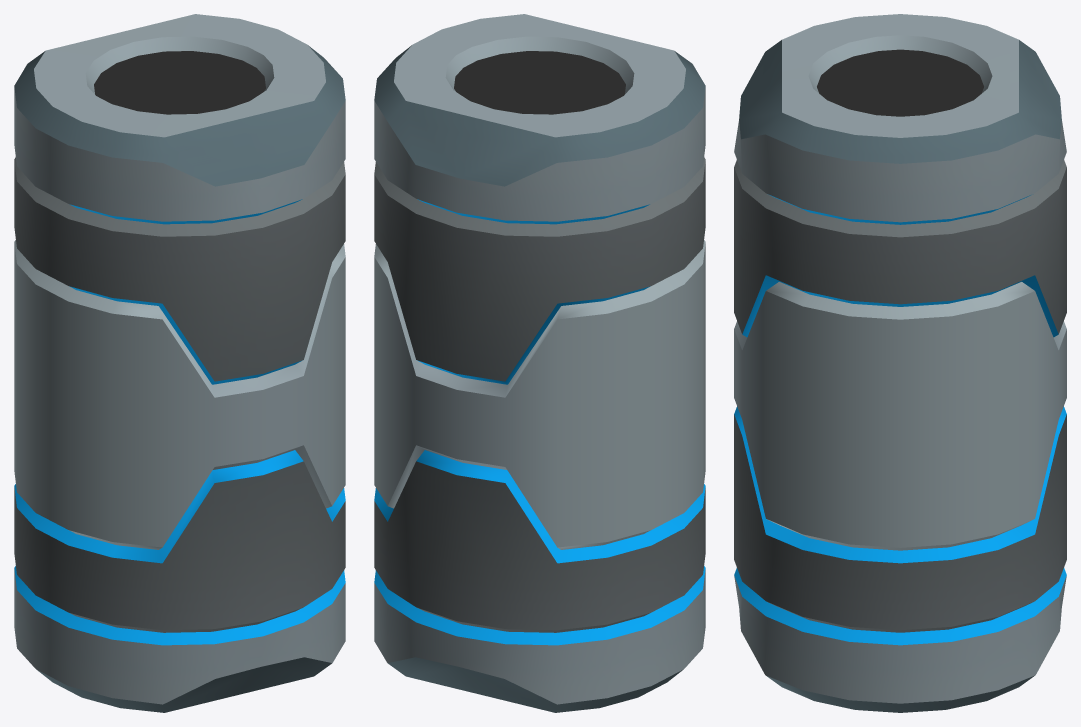
Rendered from Battery_004.fbx.
3 views of the same model, side by side, from view 1: azimuth 30°, elevation 25°; view 2: azimuth 150°, elevation 25°; view 3: azimuth 270°, elevation 25° (orthographic).
Parts seen in each view (by area): view 1: Battery_004; view 2: Battery_004; view 3: Battery_004.
Part boxes in pixels (x1,y1,x2,y2): Battery_004: (14, 14, 345, 712); Battery_004: (374, 14, 705, 712); Battery_004: (734, 14, 1066, 712).
Size of the model in its own units: 49.95 by 49.95 by 95.23.
